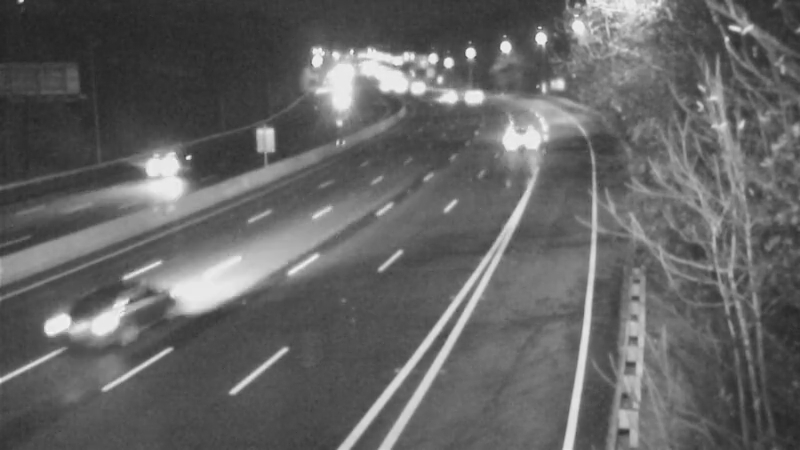vehicle: (33, 264, 143, 374), (124, 125, 204, 205), (393, 63, 443, 113), (439, 69, 489, 119), (421, 70, 471, 120), (498, 108, 548, 158)
